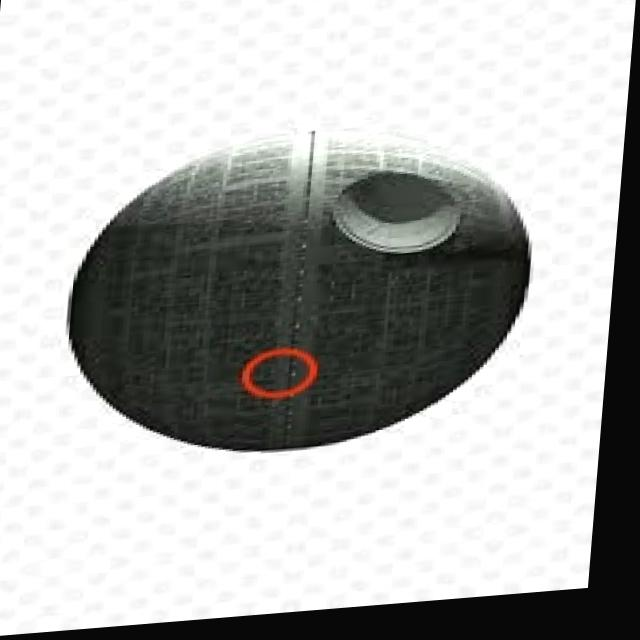deathStar: (59, 120, 544, 480)
